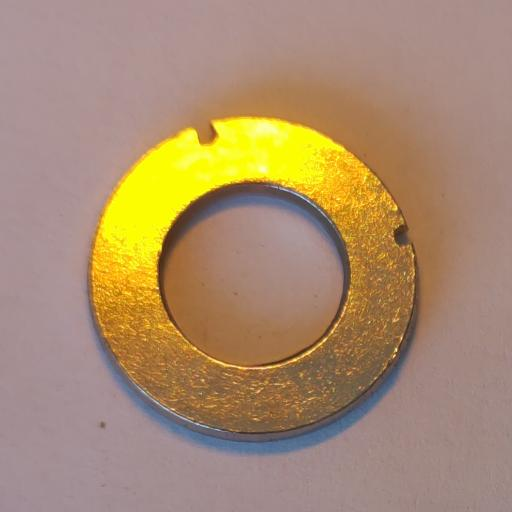burr: (195, 119, 220, 148), (392, 224, 415, 248)
